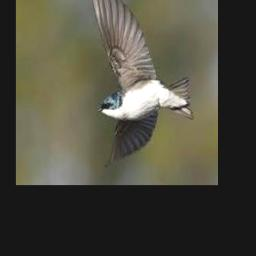Swallow: (89, 0, 193, 167)
